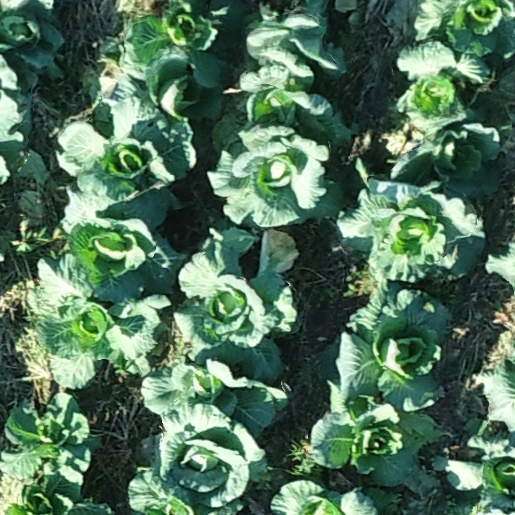Cabbage: (32, 252, 173, 391), (173, 230, 299, 380), (128, 401, 267, 515), (338, 180, 486, 284), (57, 99, 197, 206), (336, 279, 447, 410), (63, 188, 187, 304), (204, 125, 343, 227), (310, 381, 440, 486), (213, 62, 350, 155), (142, 357, 287, 436), (120, 0, 243, 86), (389, 115, 503, 201), (247, 1, 346, 93), (0, 393, 100, 480), (395, 42, 489, 133), (0, 0, 67, 104), (444, 417, 515, 512), (411, 1, 515, 62), (144, 47, 227, 123), (0, 463, 113, 514), (270, 475, 403, 515)
